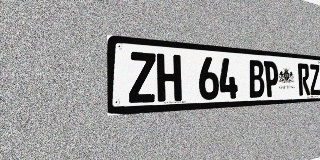4: (219, 58, 238, 99)
6: (198, 56, 219, 100)
B: (248, 60, 265, 98)
H: (157, 53, 182, 102)
P: (264, 61, 279, 97)
R: (298, 63, 310, 96)
Z: (128, 51, 157, 103), (309, 64, 320, 95)
